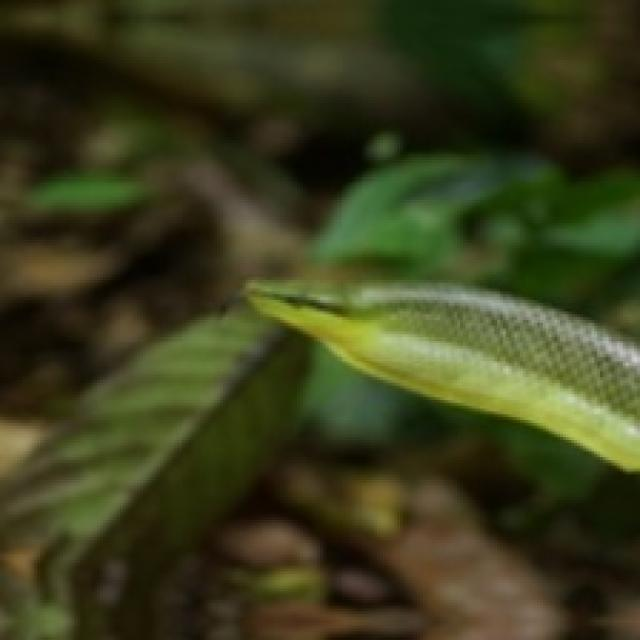red-tailed green ratsnake: (246, 280, 637, 469)
